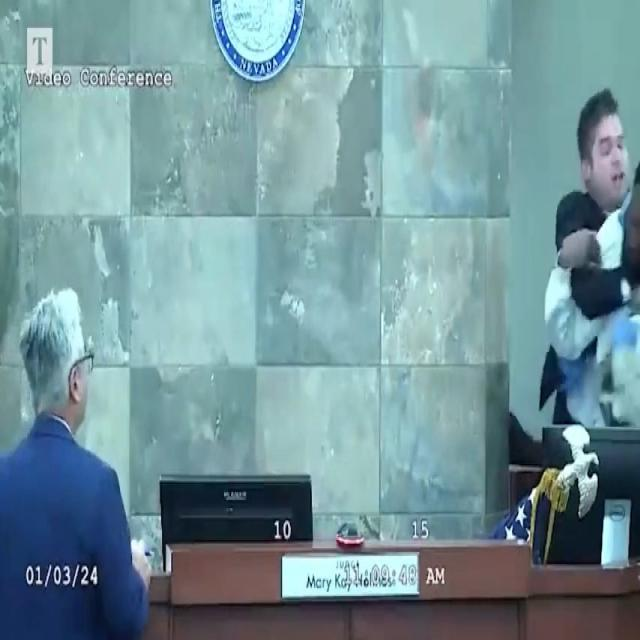fight: (535, 82, 640, 427)
non-fight: (0, 287, 150, 640)
